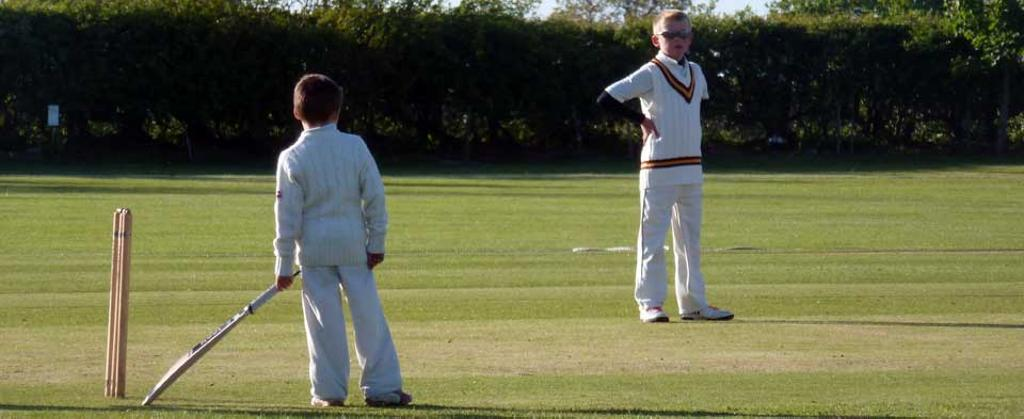face: (658, 20, 690, 56)
